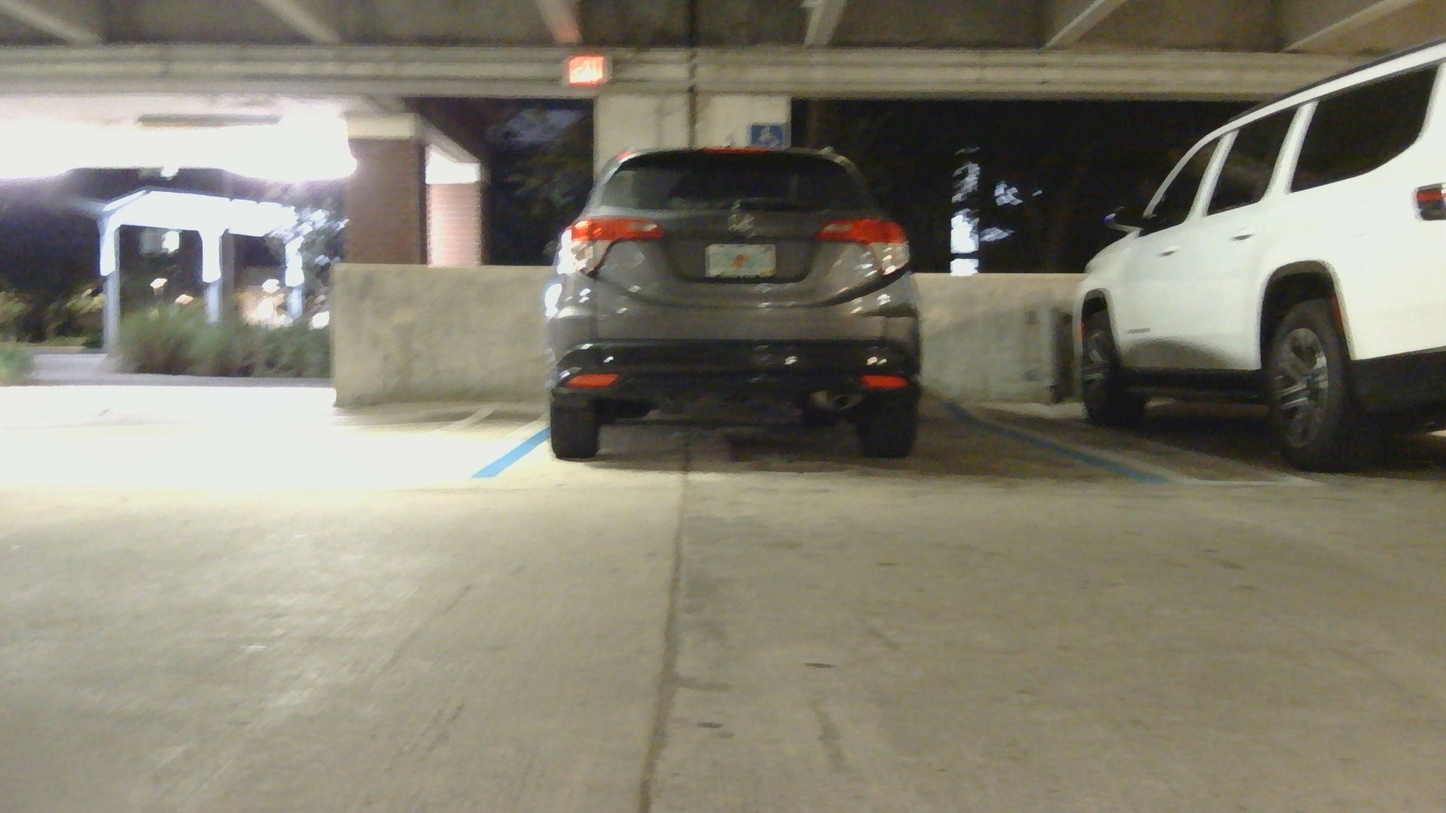occupied_spot: (1076, 37, 1446, 481), (488, 141, 942, 483)
